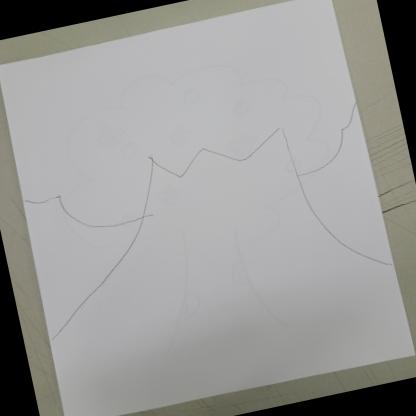branch_sharp: (134, 120, 296, 194)
crown_cloud: (0, 0, 369, 242)
trunk_reflex: (89, 182, 350, 285)
